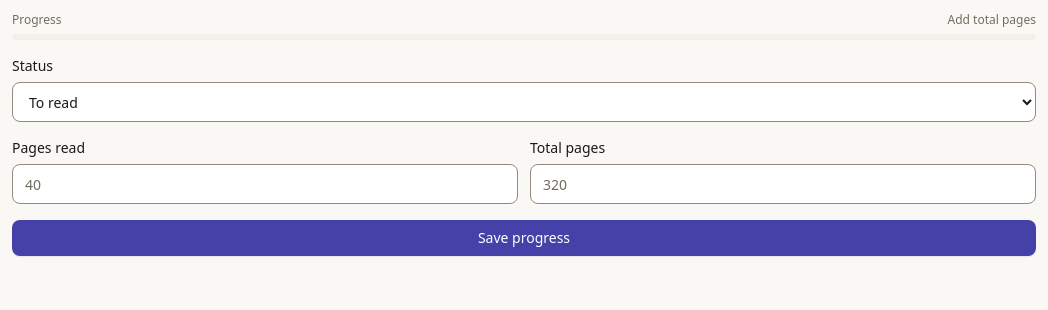
ProgressEditor › shows an error instead of failing silently when saving fails
This screenshot has width=1048, height=310.
Click the button "Save progress" at (524, 238), box [12,220,1036,256]
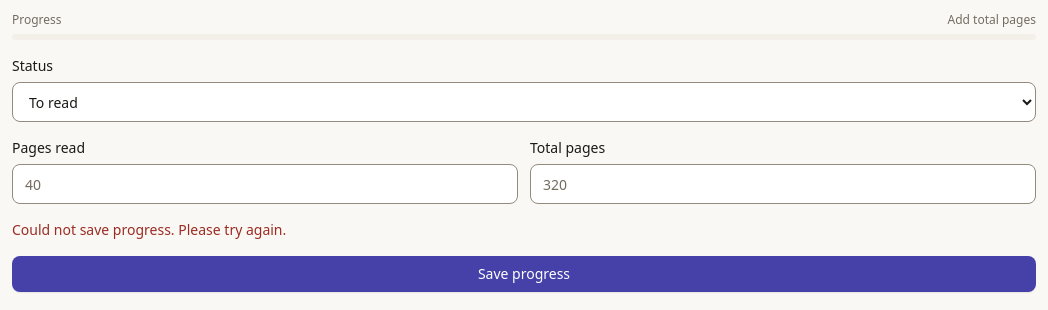
Expected: the button "Save progress" is enabled, [12,256,1036,292]
Expected: the message shows "Could not save progress", [12,220,286,239]
